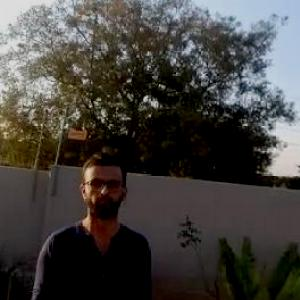follow: (24, 144, 154, 299)
